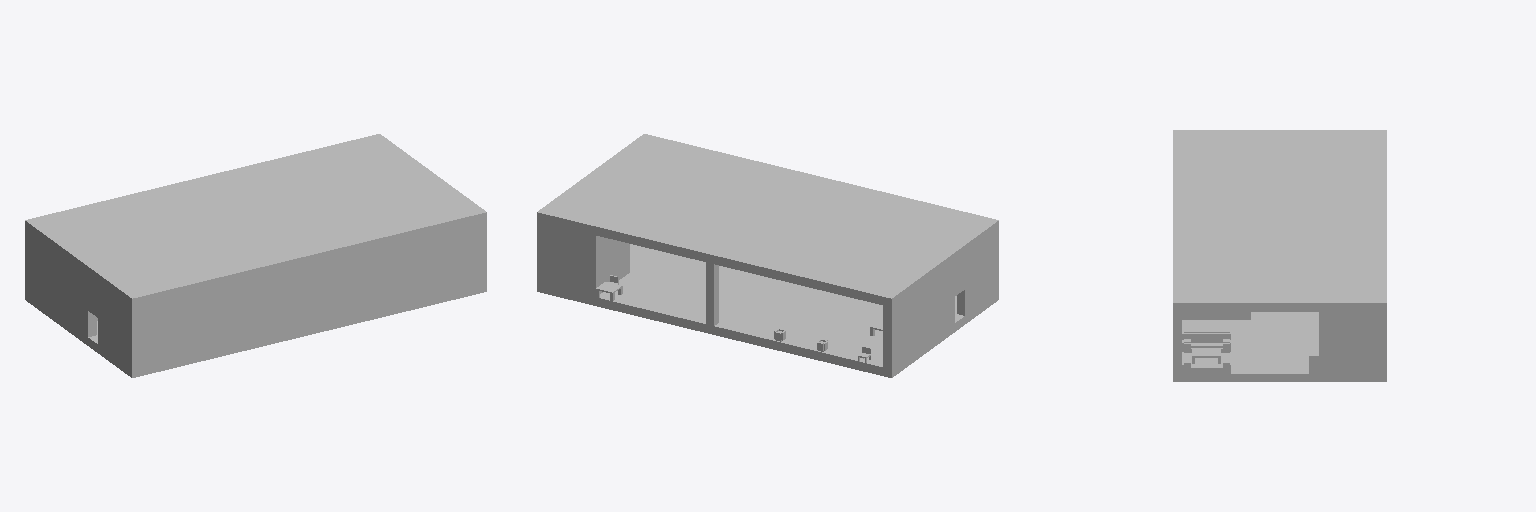
The model's file is unionD_roof.obj.
The picture shows the model from 3 angles: view 1: azimuth 30°, elevation 25°; view 2: azimuth 150°, elevation 25°; view 3: azimuth 270°, elevation 25°; orthographic projection.
Parts seen in each view (by area): view 1: object 1; view 2: object 1; view 3: object 1.
Boxes of the visible parts, x1=… form: object 1: x1=25, y1=134, x2=486, y2=377; object 1: x1=537, y1=134, x2=998, y2=377; object 1: x1=1173, y1=130, x2=1386, y2=381.
Size of the model in its own units: 25.2 by 5.4 by 13.2.